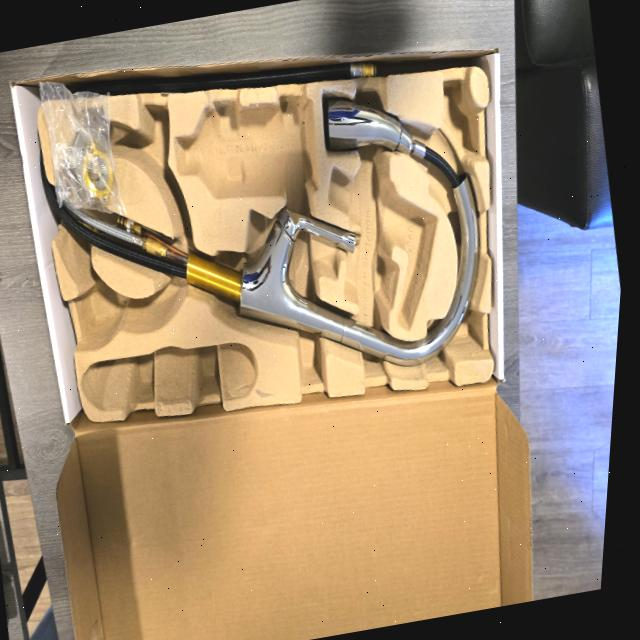1: (49, 100, 481, 364)
2m: (328, 167, 436, 326)
3m: (176, 97, 317, 198)
4m: (82, 343, 256, 410)
5m: (81, 285, 121, 341)
6: (38, 79, 123, 213)
7m: (136, 110, 168, 177)
